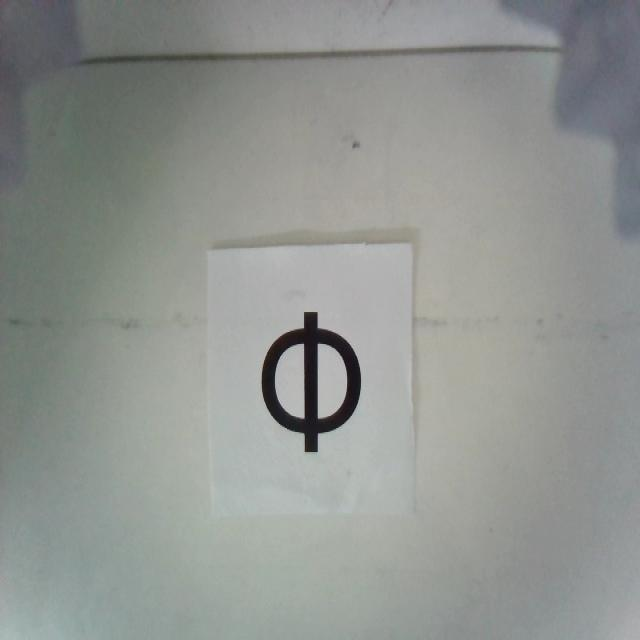F: (261, 312, 362, 449)
